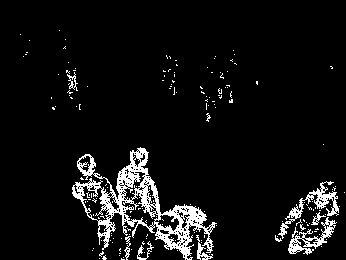person: (116, 147, 161, 260), (73, 154, 118, 260), (278, 177, 339, 255)
